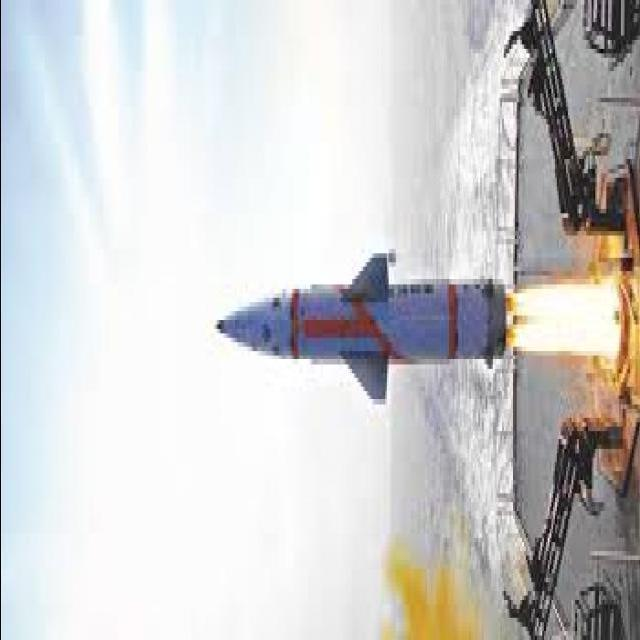missile: (210, 250, 517, 401)
